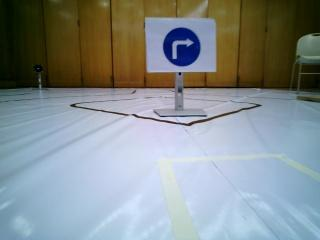right: (149, 20, 216, 72)
